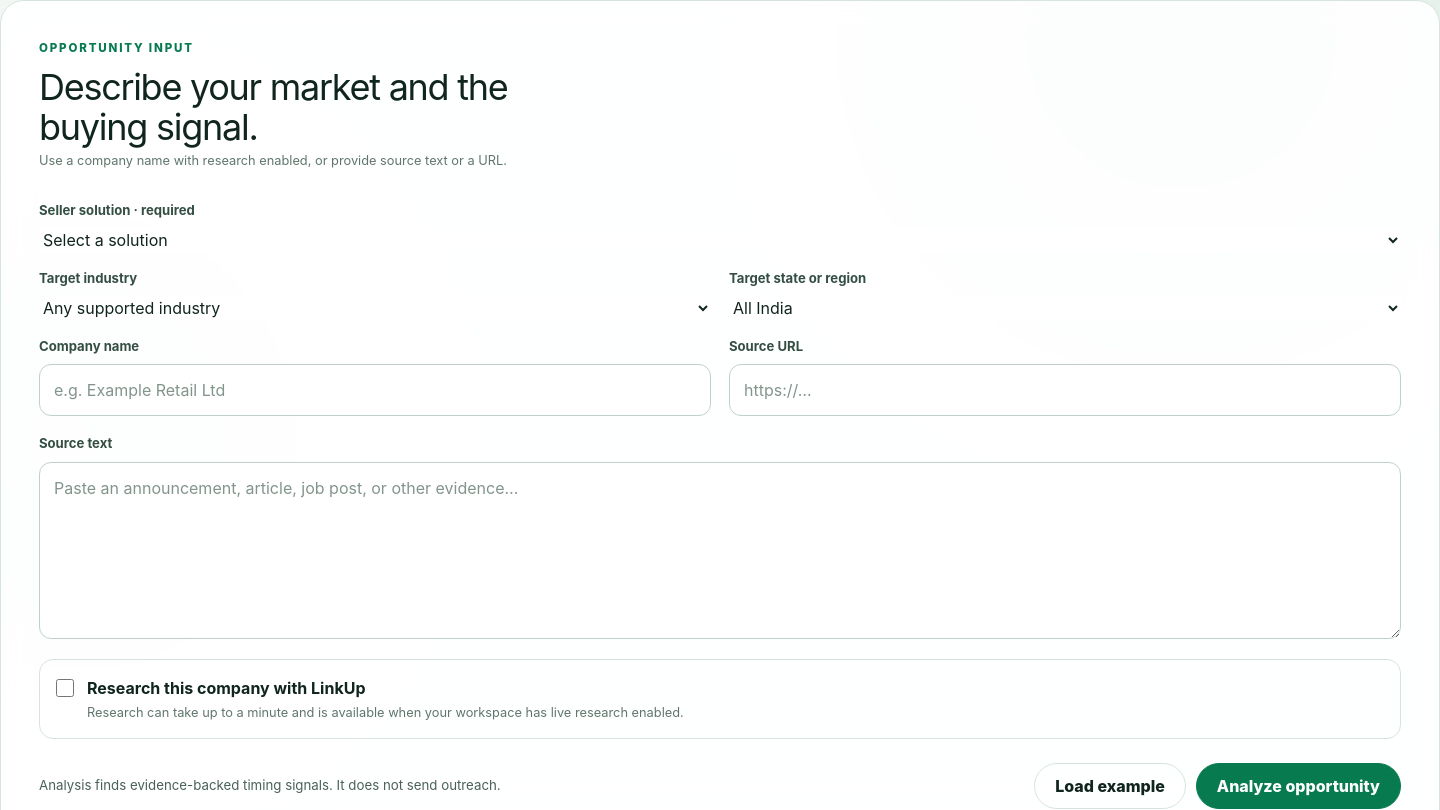
Test: AnalysisForm › loads an India-focused example in one click
The image size is (1440, 810).
Click the button "Load example" at {"x": 1110, "y": 786}, box [1034,763,1186,809]
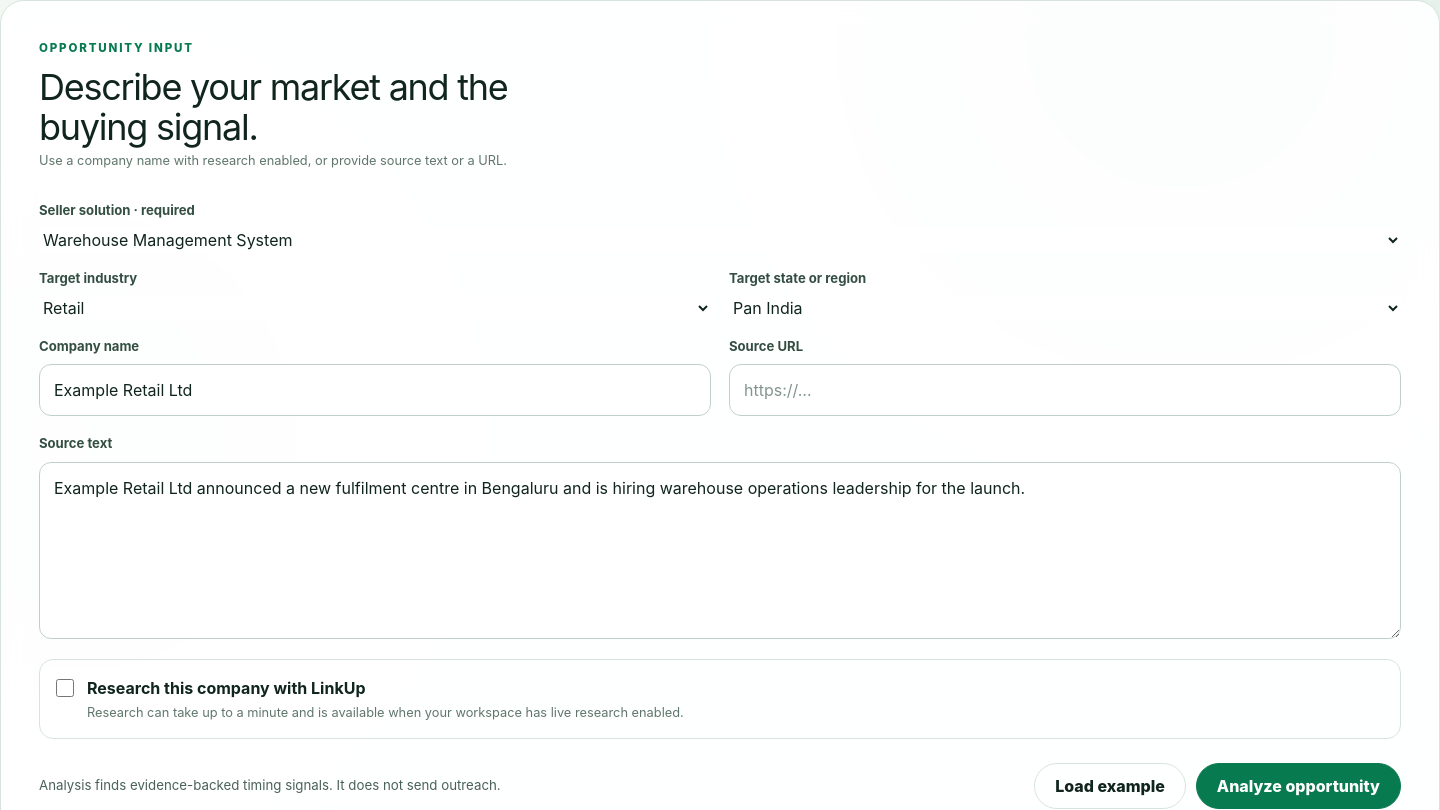
Expected: the dropdown labelled "Seller solution" shows "Warehouse Management System", [39,229,1401,251]
Expected: the dropdown labelled "Target state or region" shows "Pan India", [729,297,1401,319]
